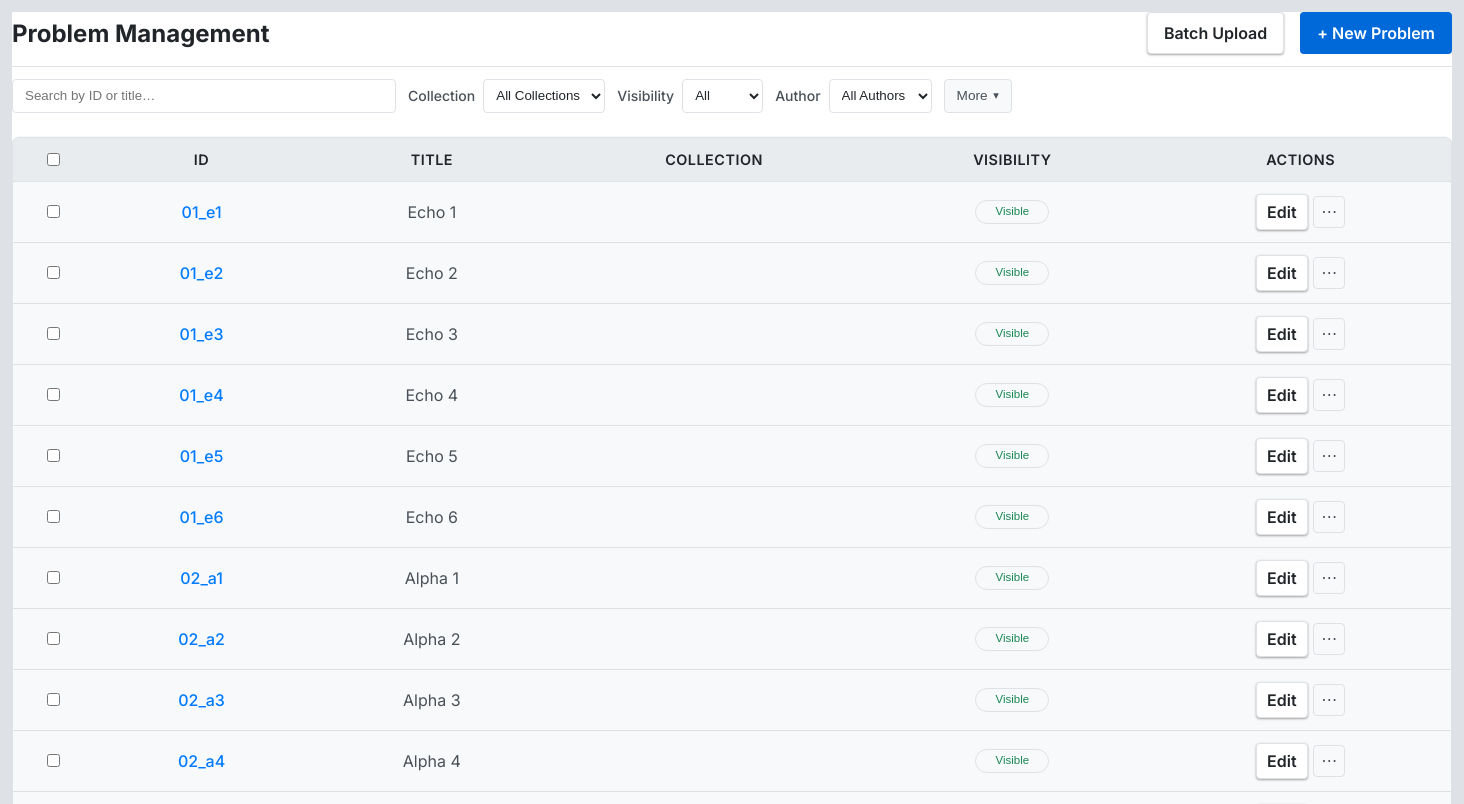
Test case: ProblemManagement Component › bulk selection › changing the visibility filter clears the selection
Expected: the text "Echo 1" is shown, left=310, top=181, right=554, bottom=242
Click the checkbox named "Select problem 01_e1": point(54, 211) left=47, top=205, right=60, bottom=218
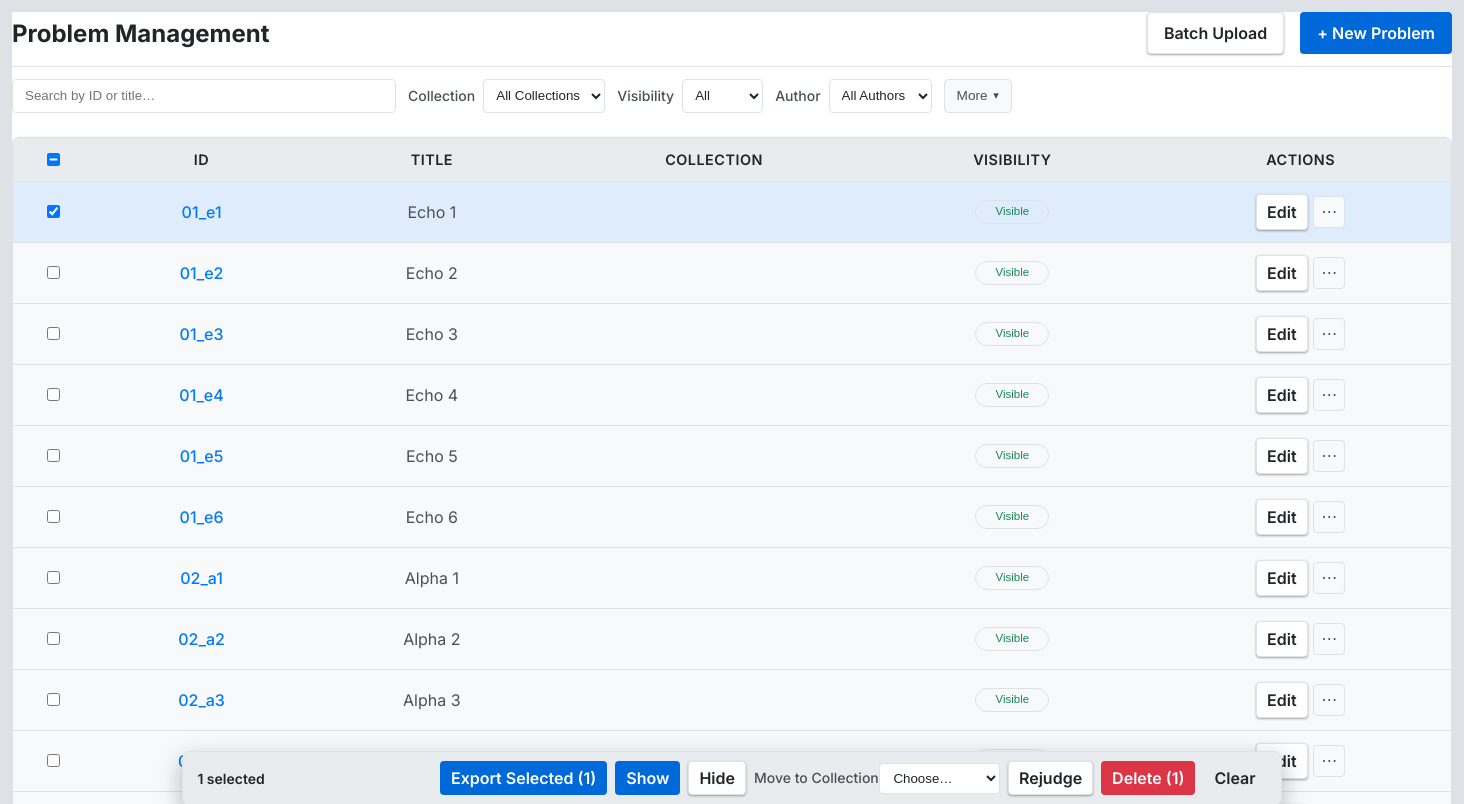
Expected: the text "1 selected" is shown, left=197, top=770, right=265, bottom=787
Select "Hidden" in the dropdown named "Filter problems by visibility": point(723, 96) left=682, top=79, right=763, bottom=113
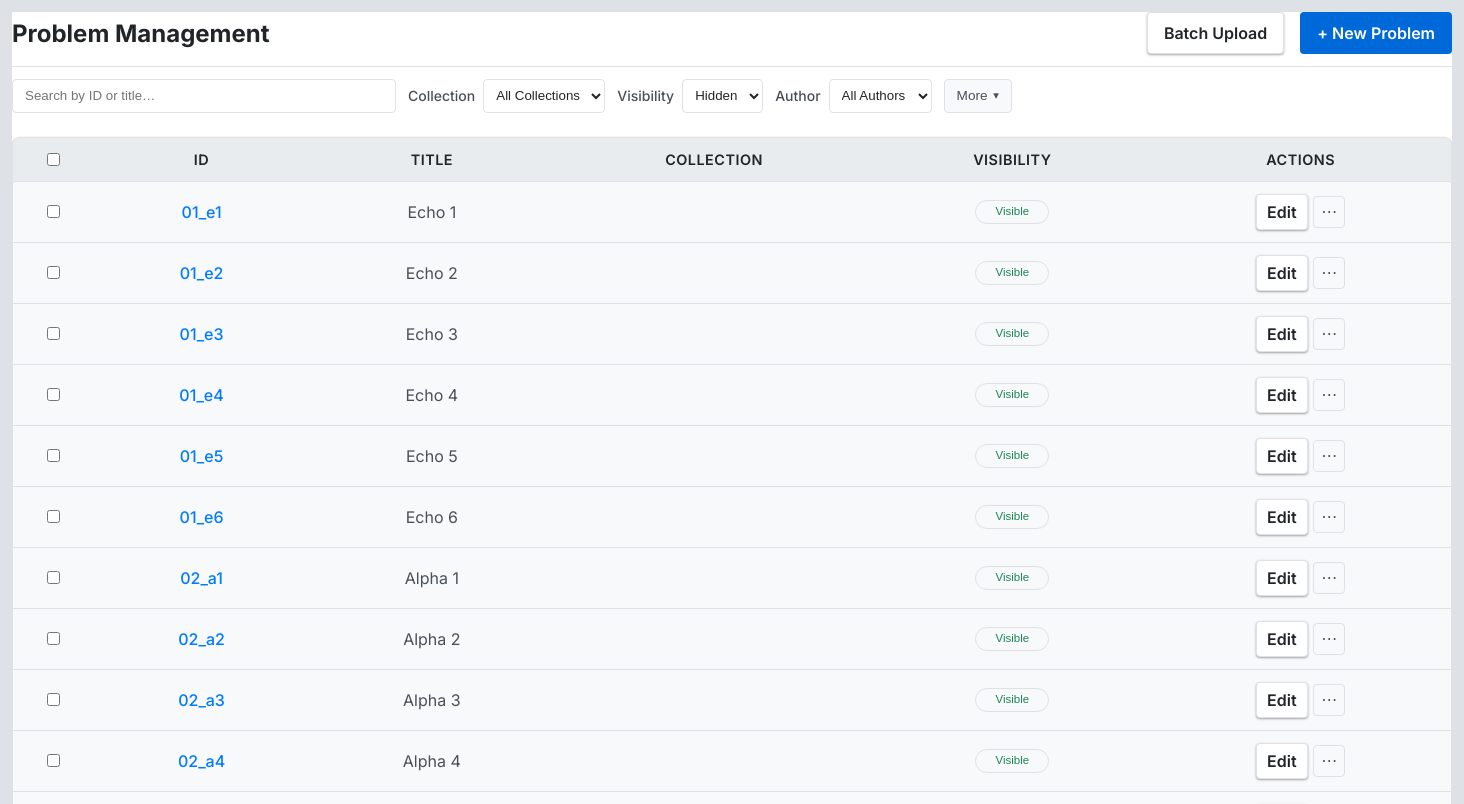
Expected: the text "1 selected" is gone
